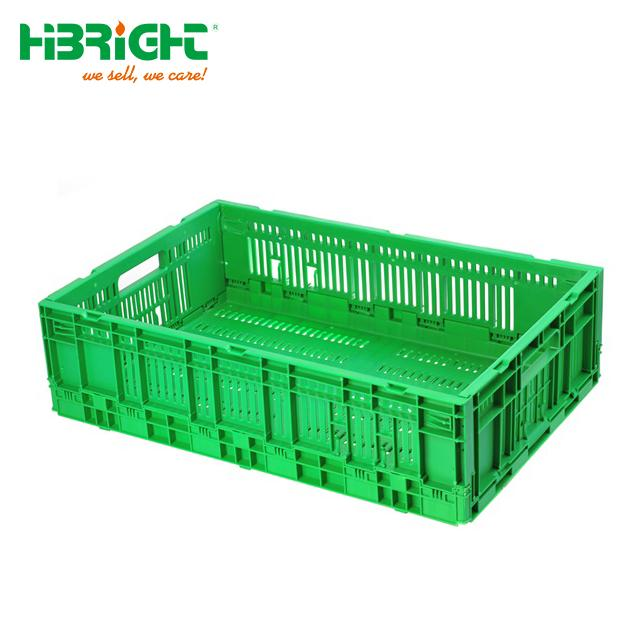basket: (15, 174, 618, 544)
